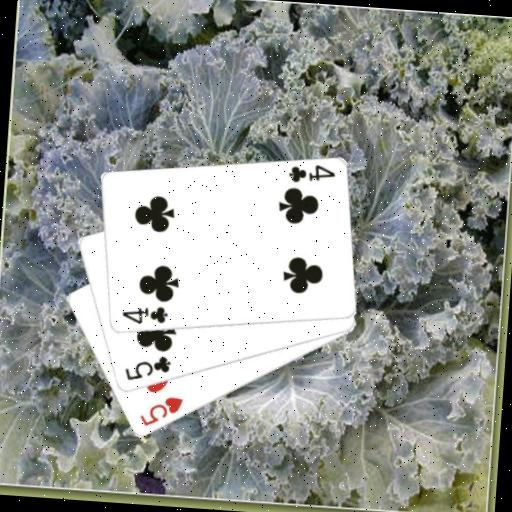4C: (284, 160, 338, 188), (118, 302, 170, 329)
5C: (121, 351, 173, 386)
5H: (136, 391, 185, 431)
